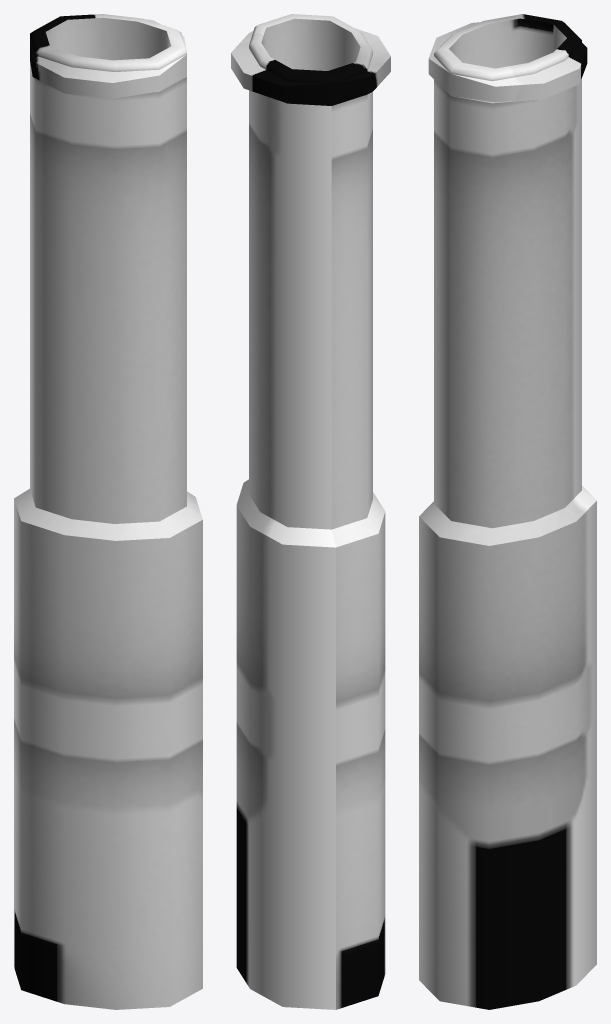
The model's file is WF_Big_huge_Chimney.fbx.
3 renders of one model, left to right at view 1: azimuth 30°, elevation 25°; view 2: azimuth 150°, elevation 25°; view 3: azimuth 270°, elevation 25°, orthographic.
Parts seen in each view (by area): view 1: WF_Big_huge_Chimney; view 2: WF_Big_huge_Chimney; view 3: WF_Big_huge_Chimney.
Part boxes in pixels (x1,y1,x2,y2): WF_Big_huge_Chimney: (14,14,202,1009); WF_Big_huge_Chimney: (231,14,390,1009); WF_Big_huge_Chimney: (419,14,596,1009).
Bounding box in the file's own units: 48.58 × 280 × 48.58.
